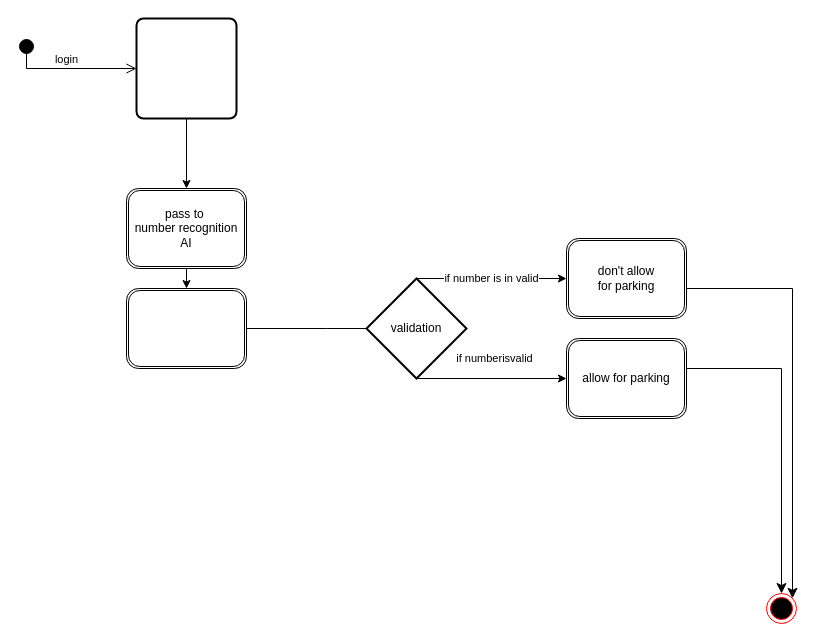
Image size: 820x641. Some labels were removed from this diagram. Here are the shapes that lost their labels. From the top down, the centre of each, then its label:
At [186,68]: "take picture of number plate".
At [186,328]: "return massage that number is valid or not".
